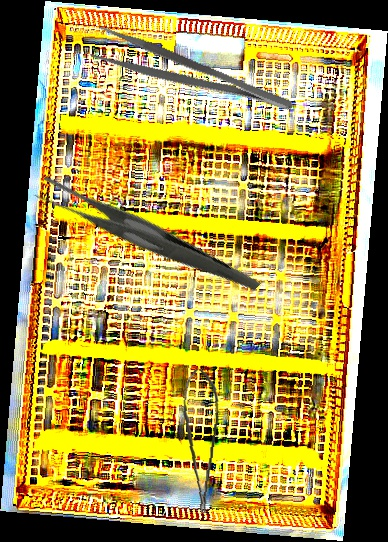Dressing Forceps: (31, 126, 261, 350), (87, 22, 296, 132)
Micro Scissor: (172, 367, 224, 514)
